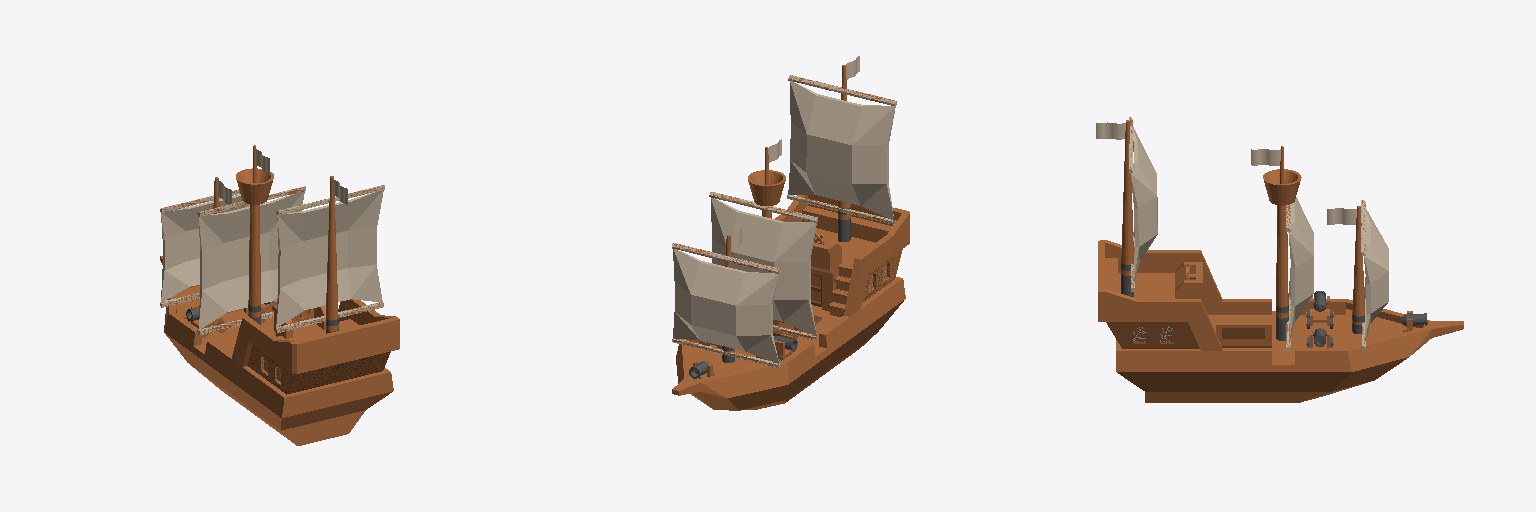
Rendered from ship_light.obj.
3 renders of one model, left to right at view 1: azimuth 30°, elevation 25°; view 2: azimuth 150°, elevation 25°; view 3: azimuth 270°, elevation 25°, orthographic.
Visible parts, largest first — view 1: ship_light, sail_back 1, sail_middle 1, sail_front 1; view 2: ship_light, sail_back 1, sail_front 1, sail_middle 1; view 3: ship_light, sail_back 1, sail_middle 1, sail_front 1, cannon_left 1.
Boxes of the visible parts, <box> form: ship_light: <box>160,145,399,445</box>; sail_back 1: <box>275,185,384,332</box>; sail_middle 1: <box>197,186,305,334</box>; sail_front 1: <box>160,189,249,307</box>; ship_light: <box>672,56,909,410</box>; sail_back 1: <box>787,75,896,224</box>; sail_front 1: <box>672,243,780,367</box>; sail_middle 1: <box>709,192,817,340</box>; ship_light: <box>1096,120,1463,402</box>; sail_back 1: <box>1129,117,1157,291</box>; sail_middle 1: <box>1286,197,1313,350</box>; sail_front 1: <box>1361,200,1388,350</box>; cannon_left 1: <box>1306,291,1333,328</box>.
Bounding box in the file's own units: 28.5 × 65.46 × 80.98.